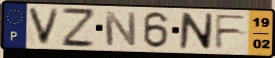6: (141, 10, 171, 50)
F: (213, 14, 249, 51)
N: (177, 11, 215, 51), (103, 10, 138, 48)
V: (26, 6, 63, 47)
Z: (60, 6, 96, 49)
